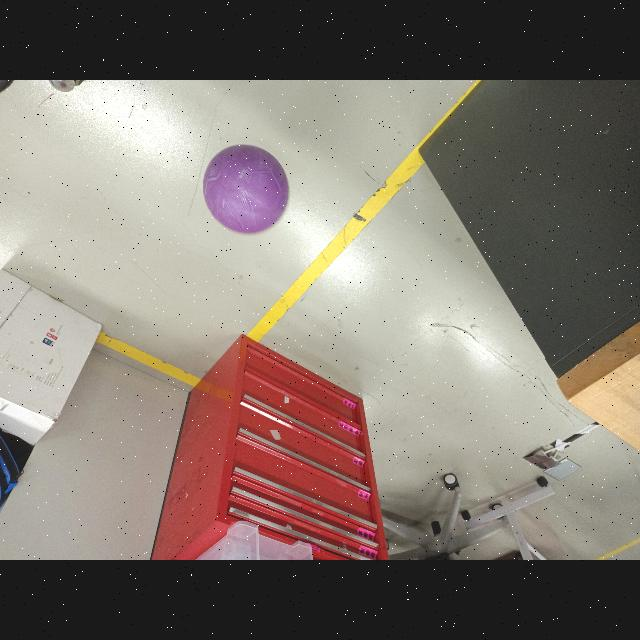P: (202, 146, 292, 232)
